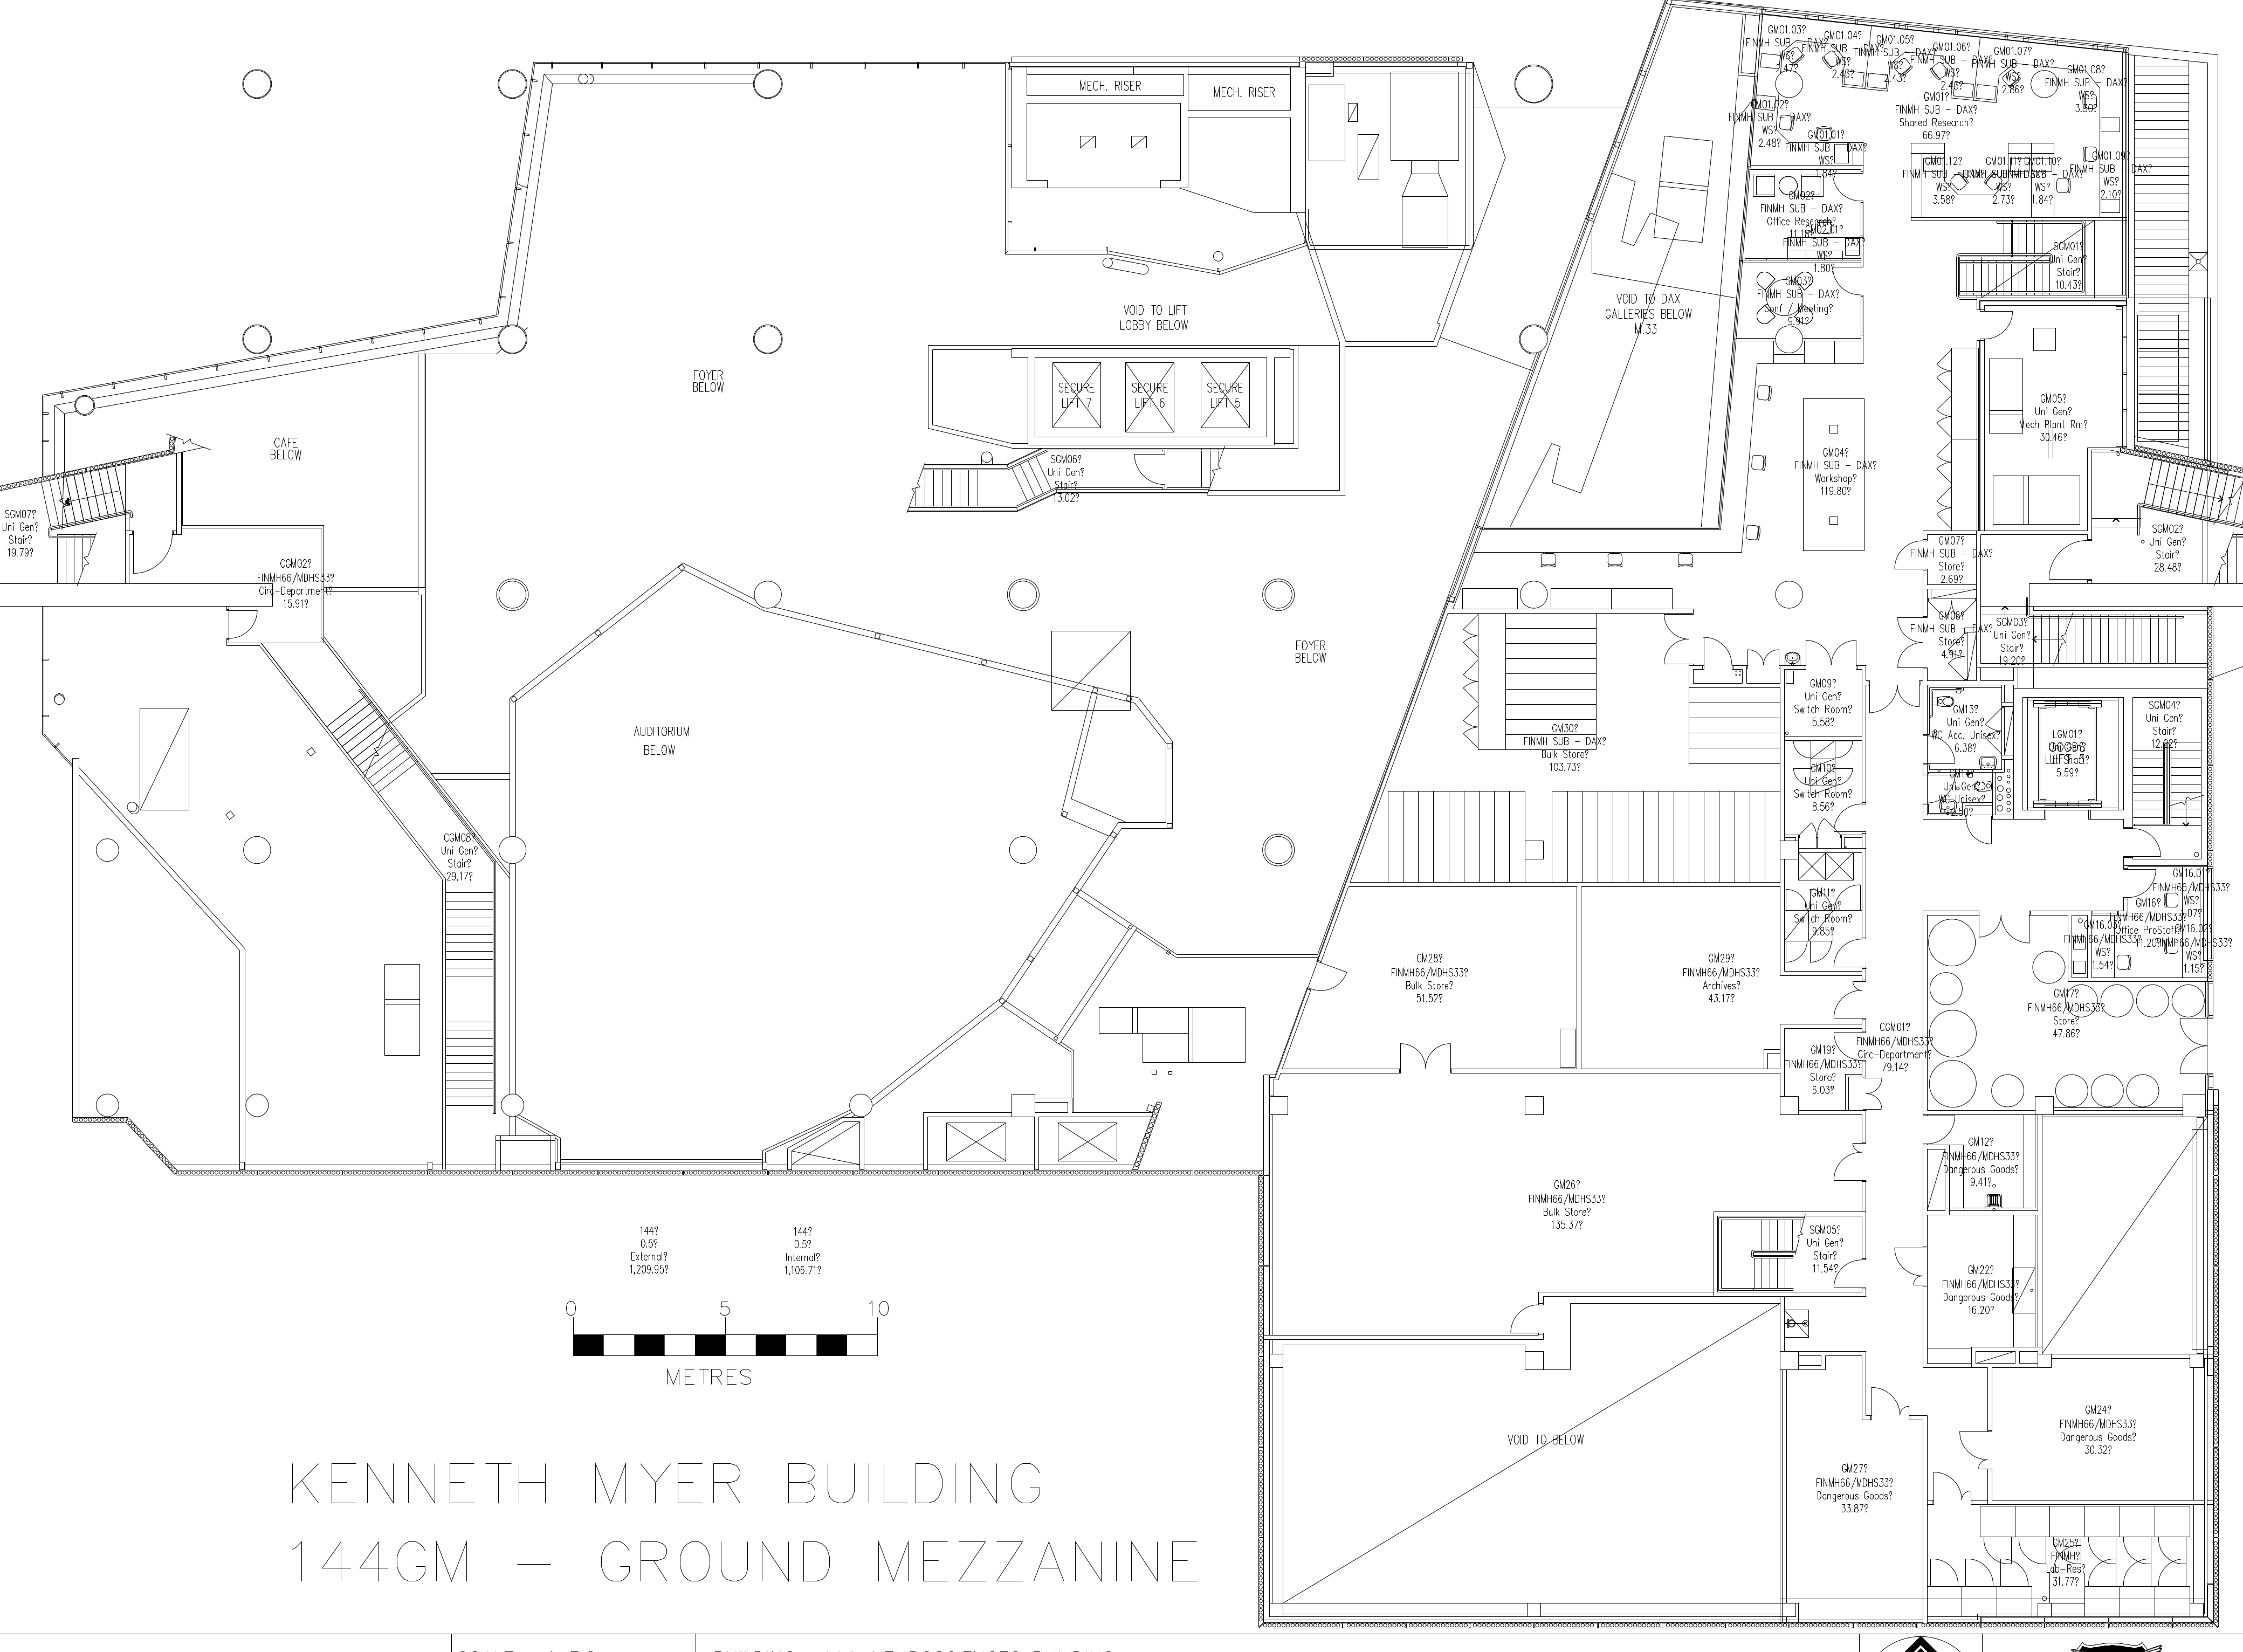door: (1888, 613, 1930, 674), (1656, 609, 1698, 670), (1973, 909, 2034, 947), (1865, 677, 1921, 719), (1802, 634, 1858, 675), (2175, 1013, 2210, 1078), (1822, 1138, 1869, 1185), (131, 527, 174, 576), (2046, 536, 2091, 581), (1398, 1039, 1452, 1076), (1884, 1245, 1931, 1286), (1823, 1252, 1870, 1293), (1952, 1427, 1994, 1473), (1867, 1384, 1914, 1424), (1930, 1466, 1973, 1506), (1128, 449, 1174, 487), (1830, 978, 1869, 1024), (2156, 1535, 2189, 1586), (2086, 1535, 2118, 1586), (1306, 959, 1350, 994), (1829, 171, 1869, 207), (1830, 265, 1867, 303), (1832, 799, 1869, 836), (1963, 813, 1997, 850), (1832, 935, 1867, 971), (2128, 823, 2163, 860), (2125, 863, 2159, 900), (1893, 538, 1930, 573), (226, 606, 261, 641), (1508, 1302, 1543, 1337), (1698, 635, 1733, 670), (1921, 1112, 1956, 1145), (1830, 1031, 1867, 1062), (2015, 1534, 2048, 1567), (1982, 308, 2015, 341), (1858, 1076, 1889, 1111), (1982, 1534, 2013, 1567), (1928, 1556, 1959, 1589), (1963, 1556, 1996, 1588), (1997, 1558, 2029, 1589), (1745, 644, 1780, 668)
